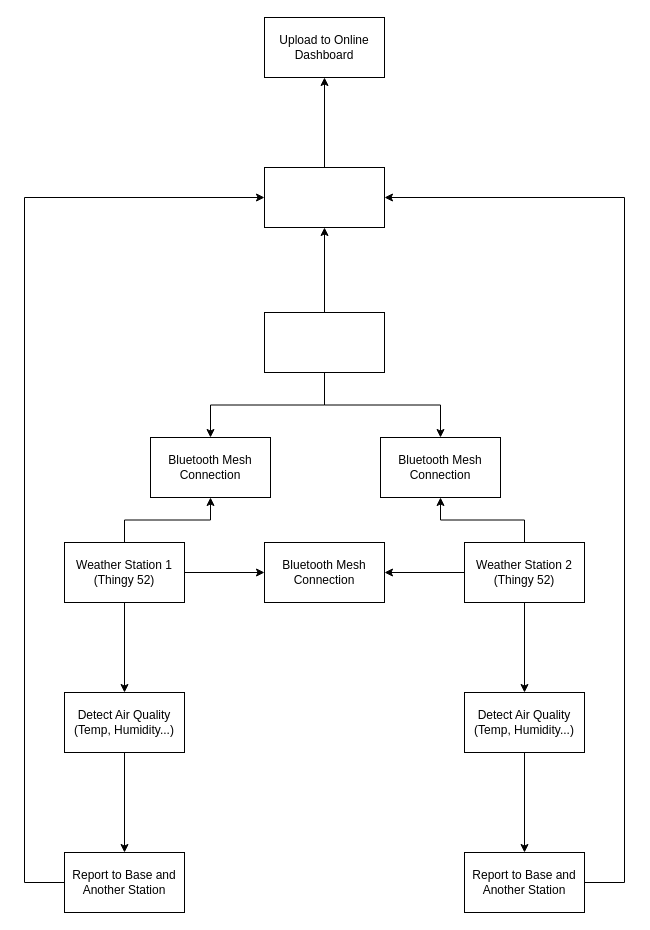
The diagram is 650 pixels wide and 930 high, and some of its shapes have lost their labels. Each missing label, with the centre of its shape:
Base (esp32): point (324, 342)
Receive Air Quality Data from Station: point (324, 197)
